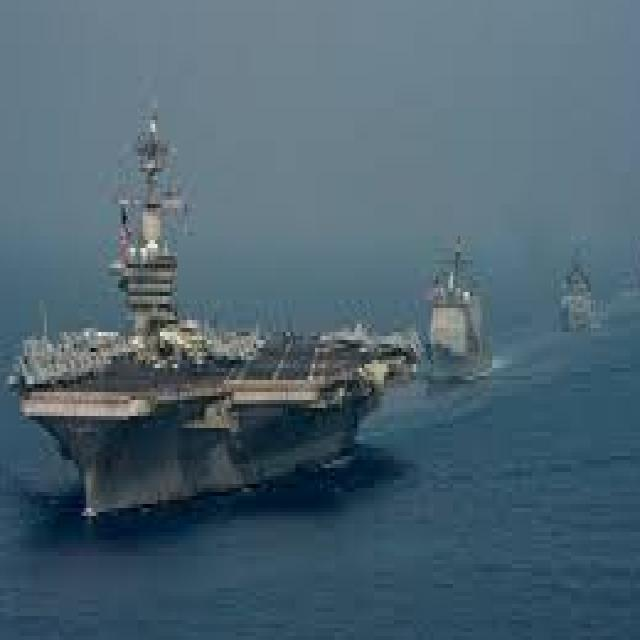navalvessels: (8, 107, 414, 517), (405, 238, 505, 392), (541, 256, 602, 342)
